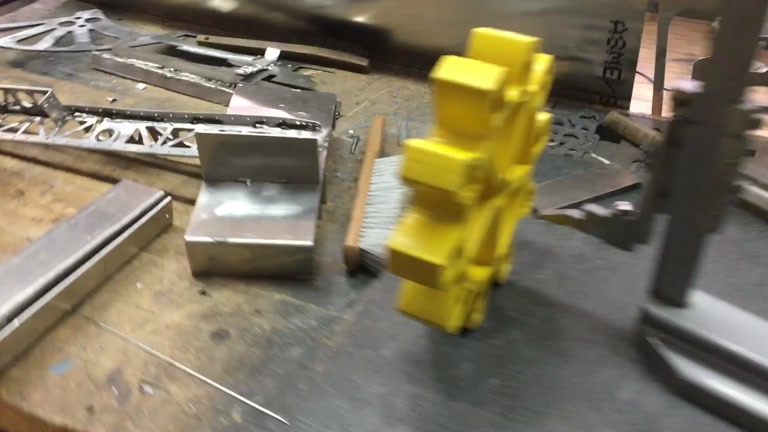gear: (386, 25, 559, 338)
